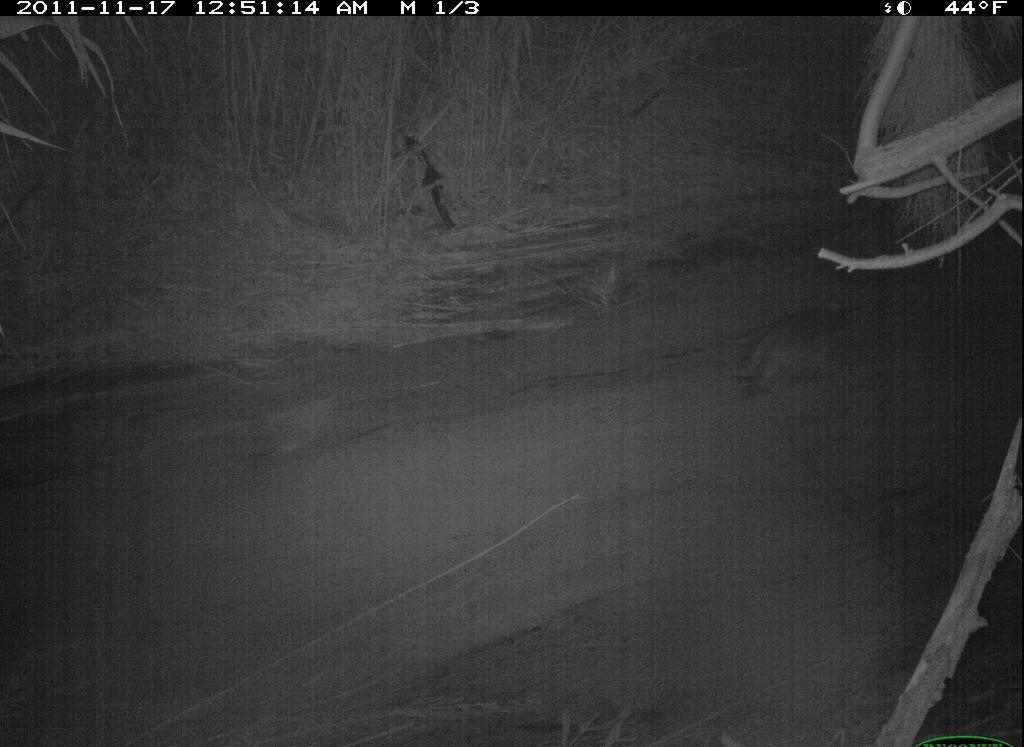raccoon: (707, 272, 885, 414)
